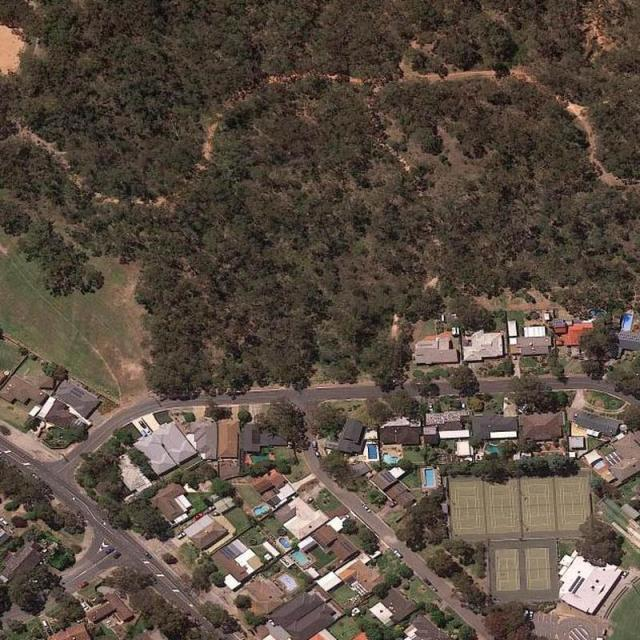vehicle: (391, 548, 402, 558), (79, 580, 89, 590), (81, 601, 90, 611), (105, 546, 115, 554), (363, 503, 371, 513), (311, 441, 318, 452), (622, 570, 630, 579), (114, 551, 122, 559), (1, 518, 9, 526), (315, 451, 322, 460), (426, 402, 433, 411), (43, 620, 50, 629), (178, 533, 186, 540), (46, 628, 53, 636), (194, 513, 203, 519), (144, 551, 151, 558), (529, 610, 533, 620), (270, 620, 275, 626)
